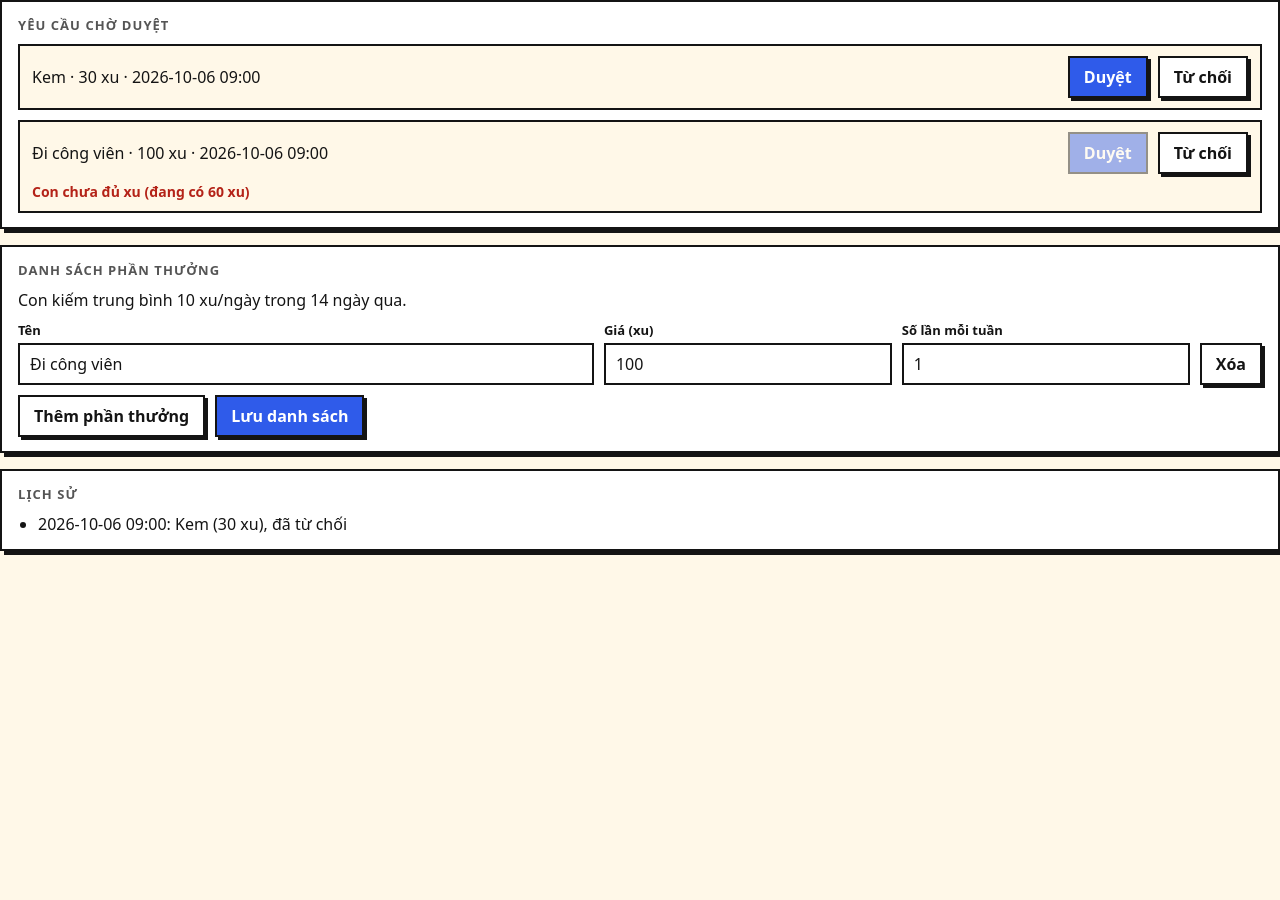
Test: ParentRewards › shows cleaned values after save (clamped price, removed blank rows)
The width and height of the screenshot is (1280, 900).
Step 1. Click the button "Thêm phần thưởng" → (112, 416), box x1=18 y1=395 x2=205 y2=437
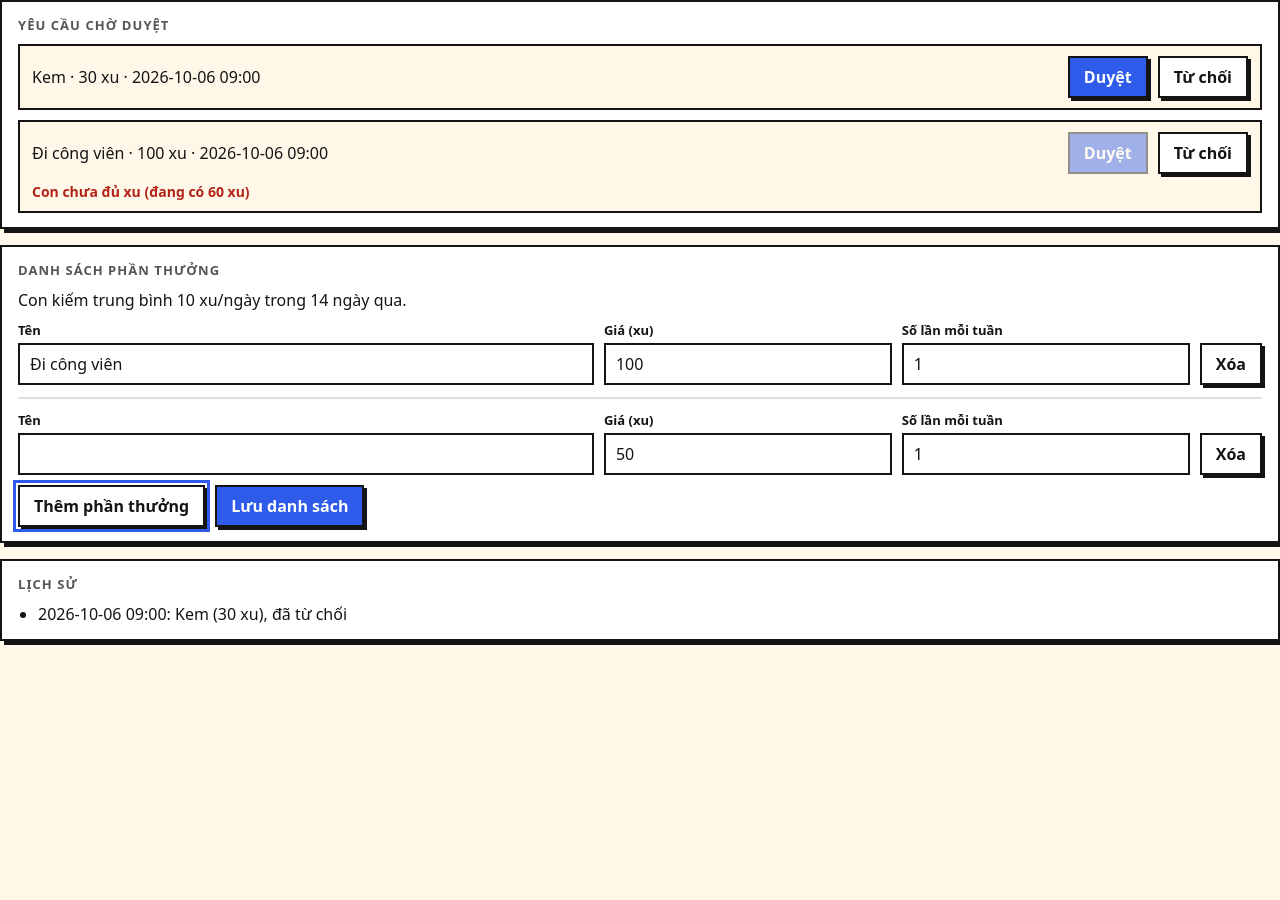
Step 2. Type "Xe đạp" into the 2nd field labelled "Tên" → (306, 454), box x1=18 y1=433 x2=594 y2=475
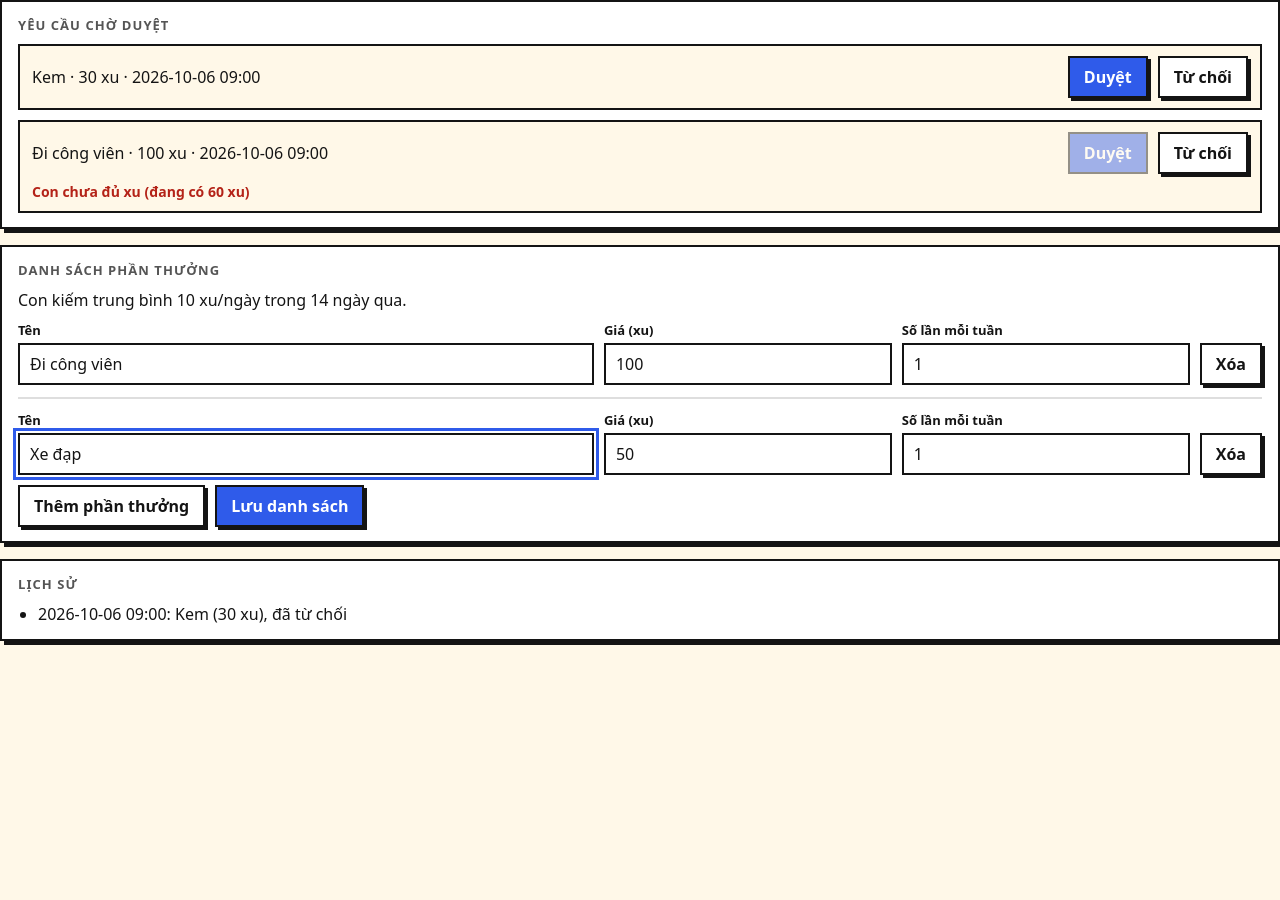
Step 3. Replace the text in the 2nd number field labelled "Giá (xu)" with "150000" → (748, 454), box x1=604 y1=433 x2=892 y2=475
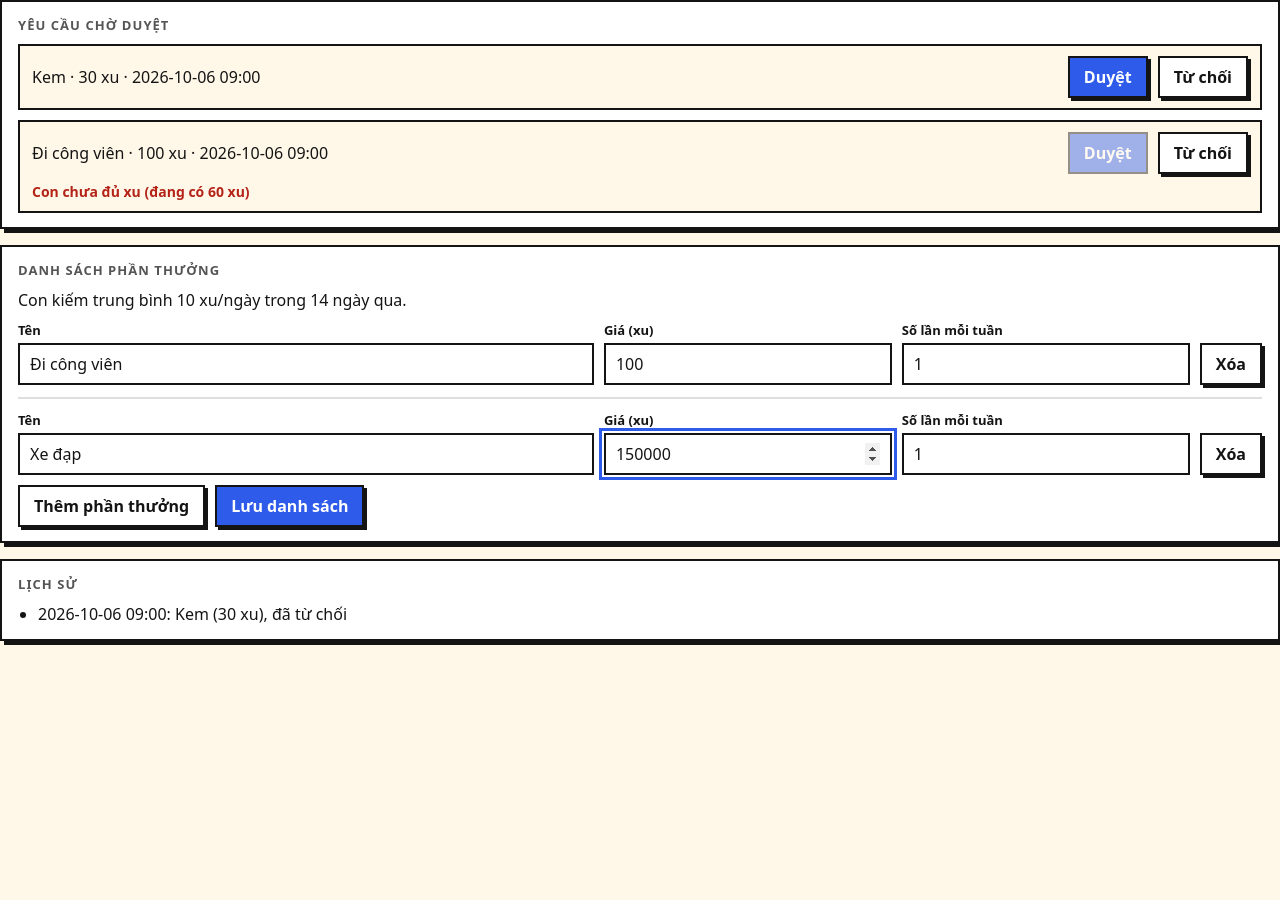
Step 4. Click the button "Thêm phần thưởng" → (112, 506), box x1=18 y1=485 x2=205 y2=527
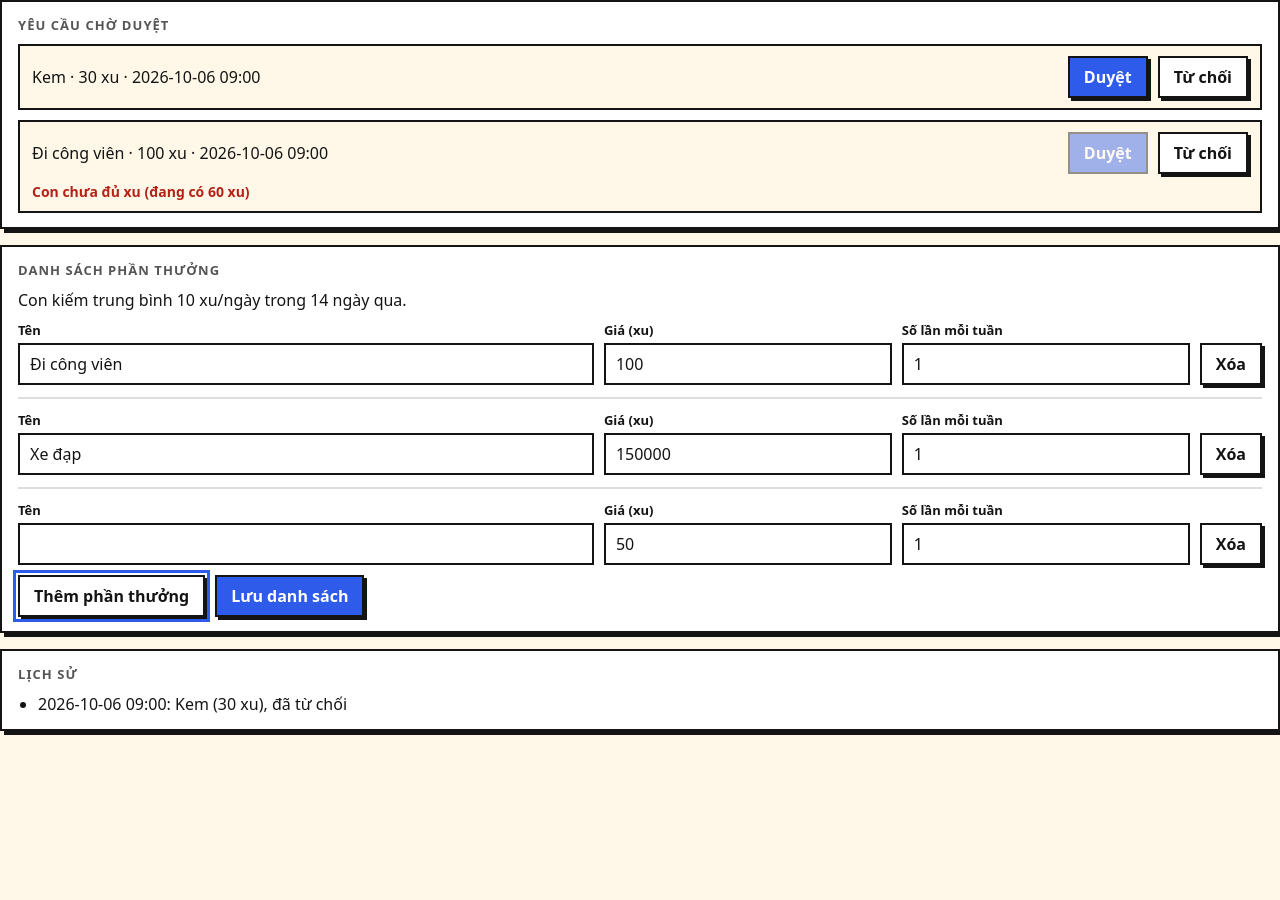
Step 5. Replace the text in the 3rd number field labelled "Giá (xu)" with "20" → (748, 544), box x1=604 y1=523 x2=892 y2=565
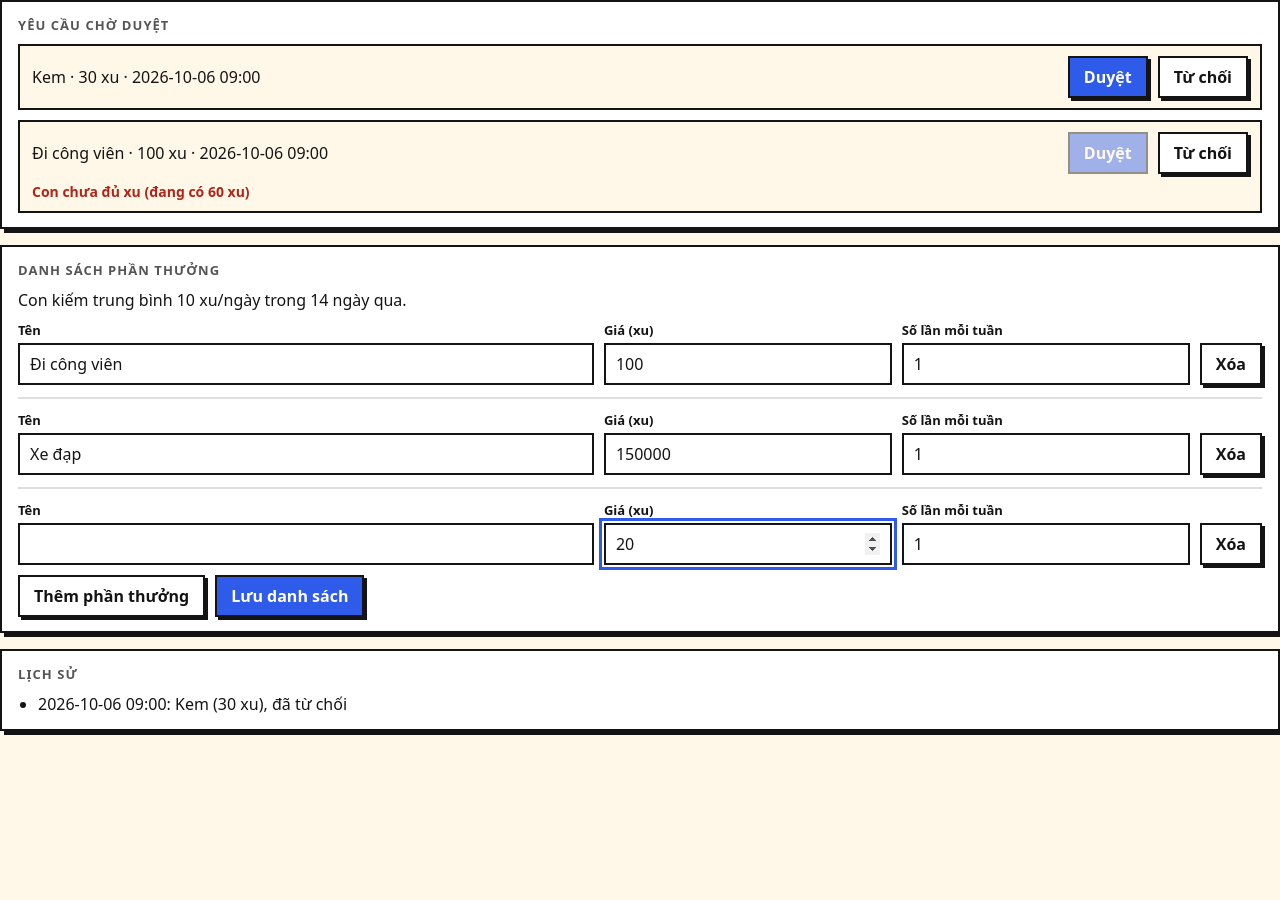
Step 6. Click the button "Lưu danh sách" → (290, 596), box x1=215 y1=575 x2=364 y2=617
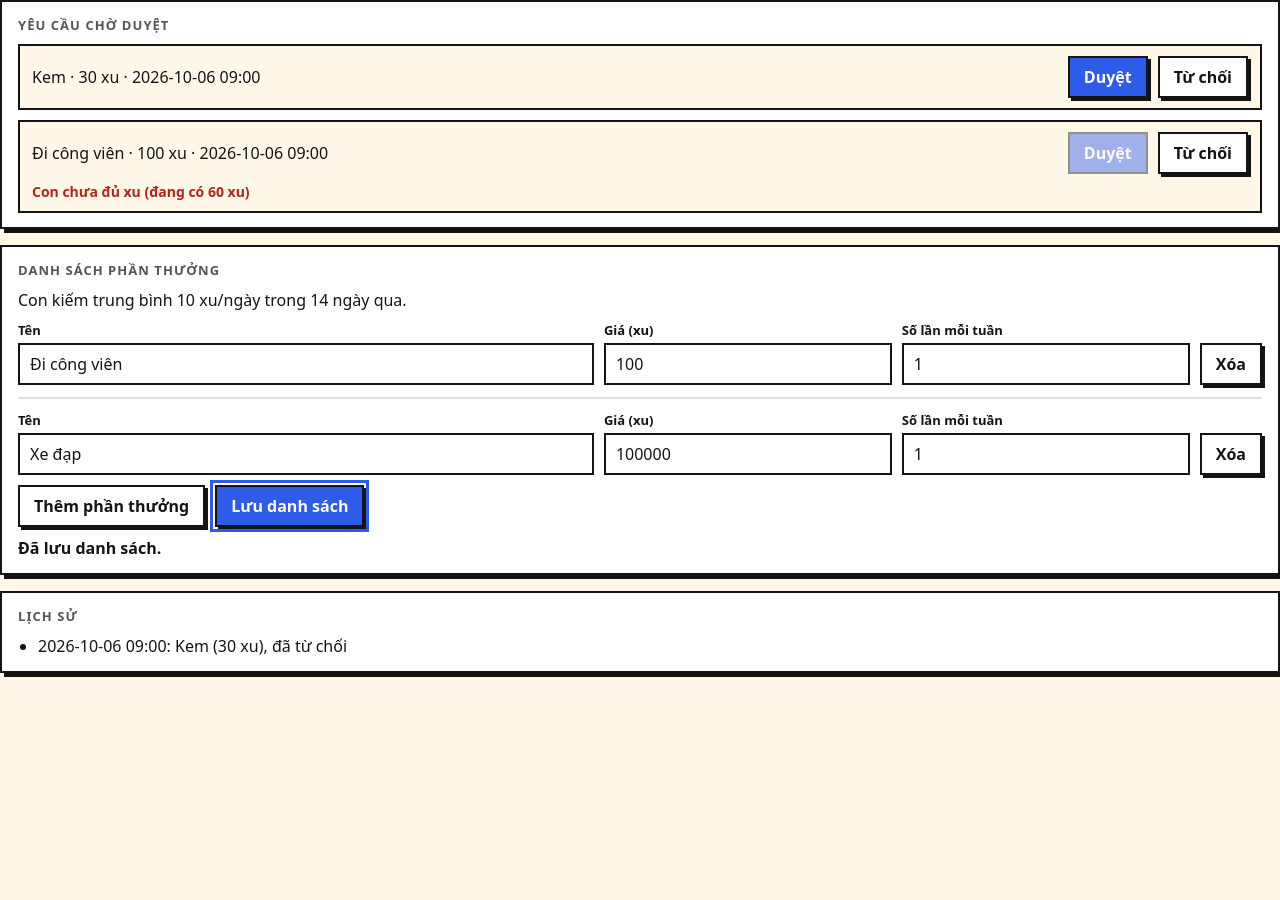
Now the message reads "Đã lưu danh sách.", box x1=18 y1=537 x2=161 y2=559
Now the 2nd number field labelled "Giá (xu)" holds "100000", box x1=604 y1=433 x2=892 y2=475
